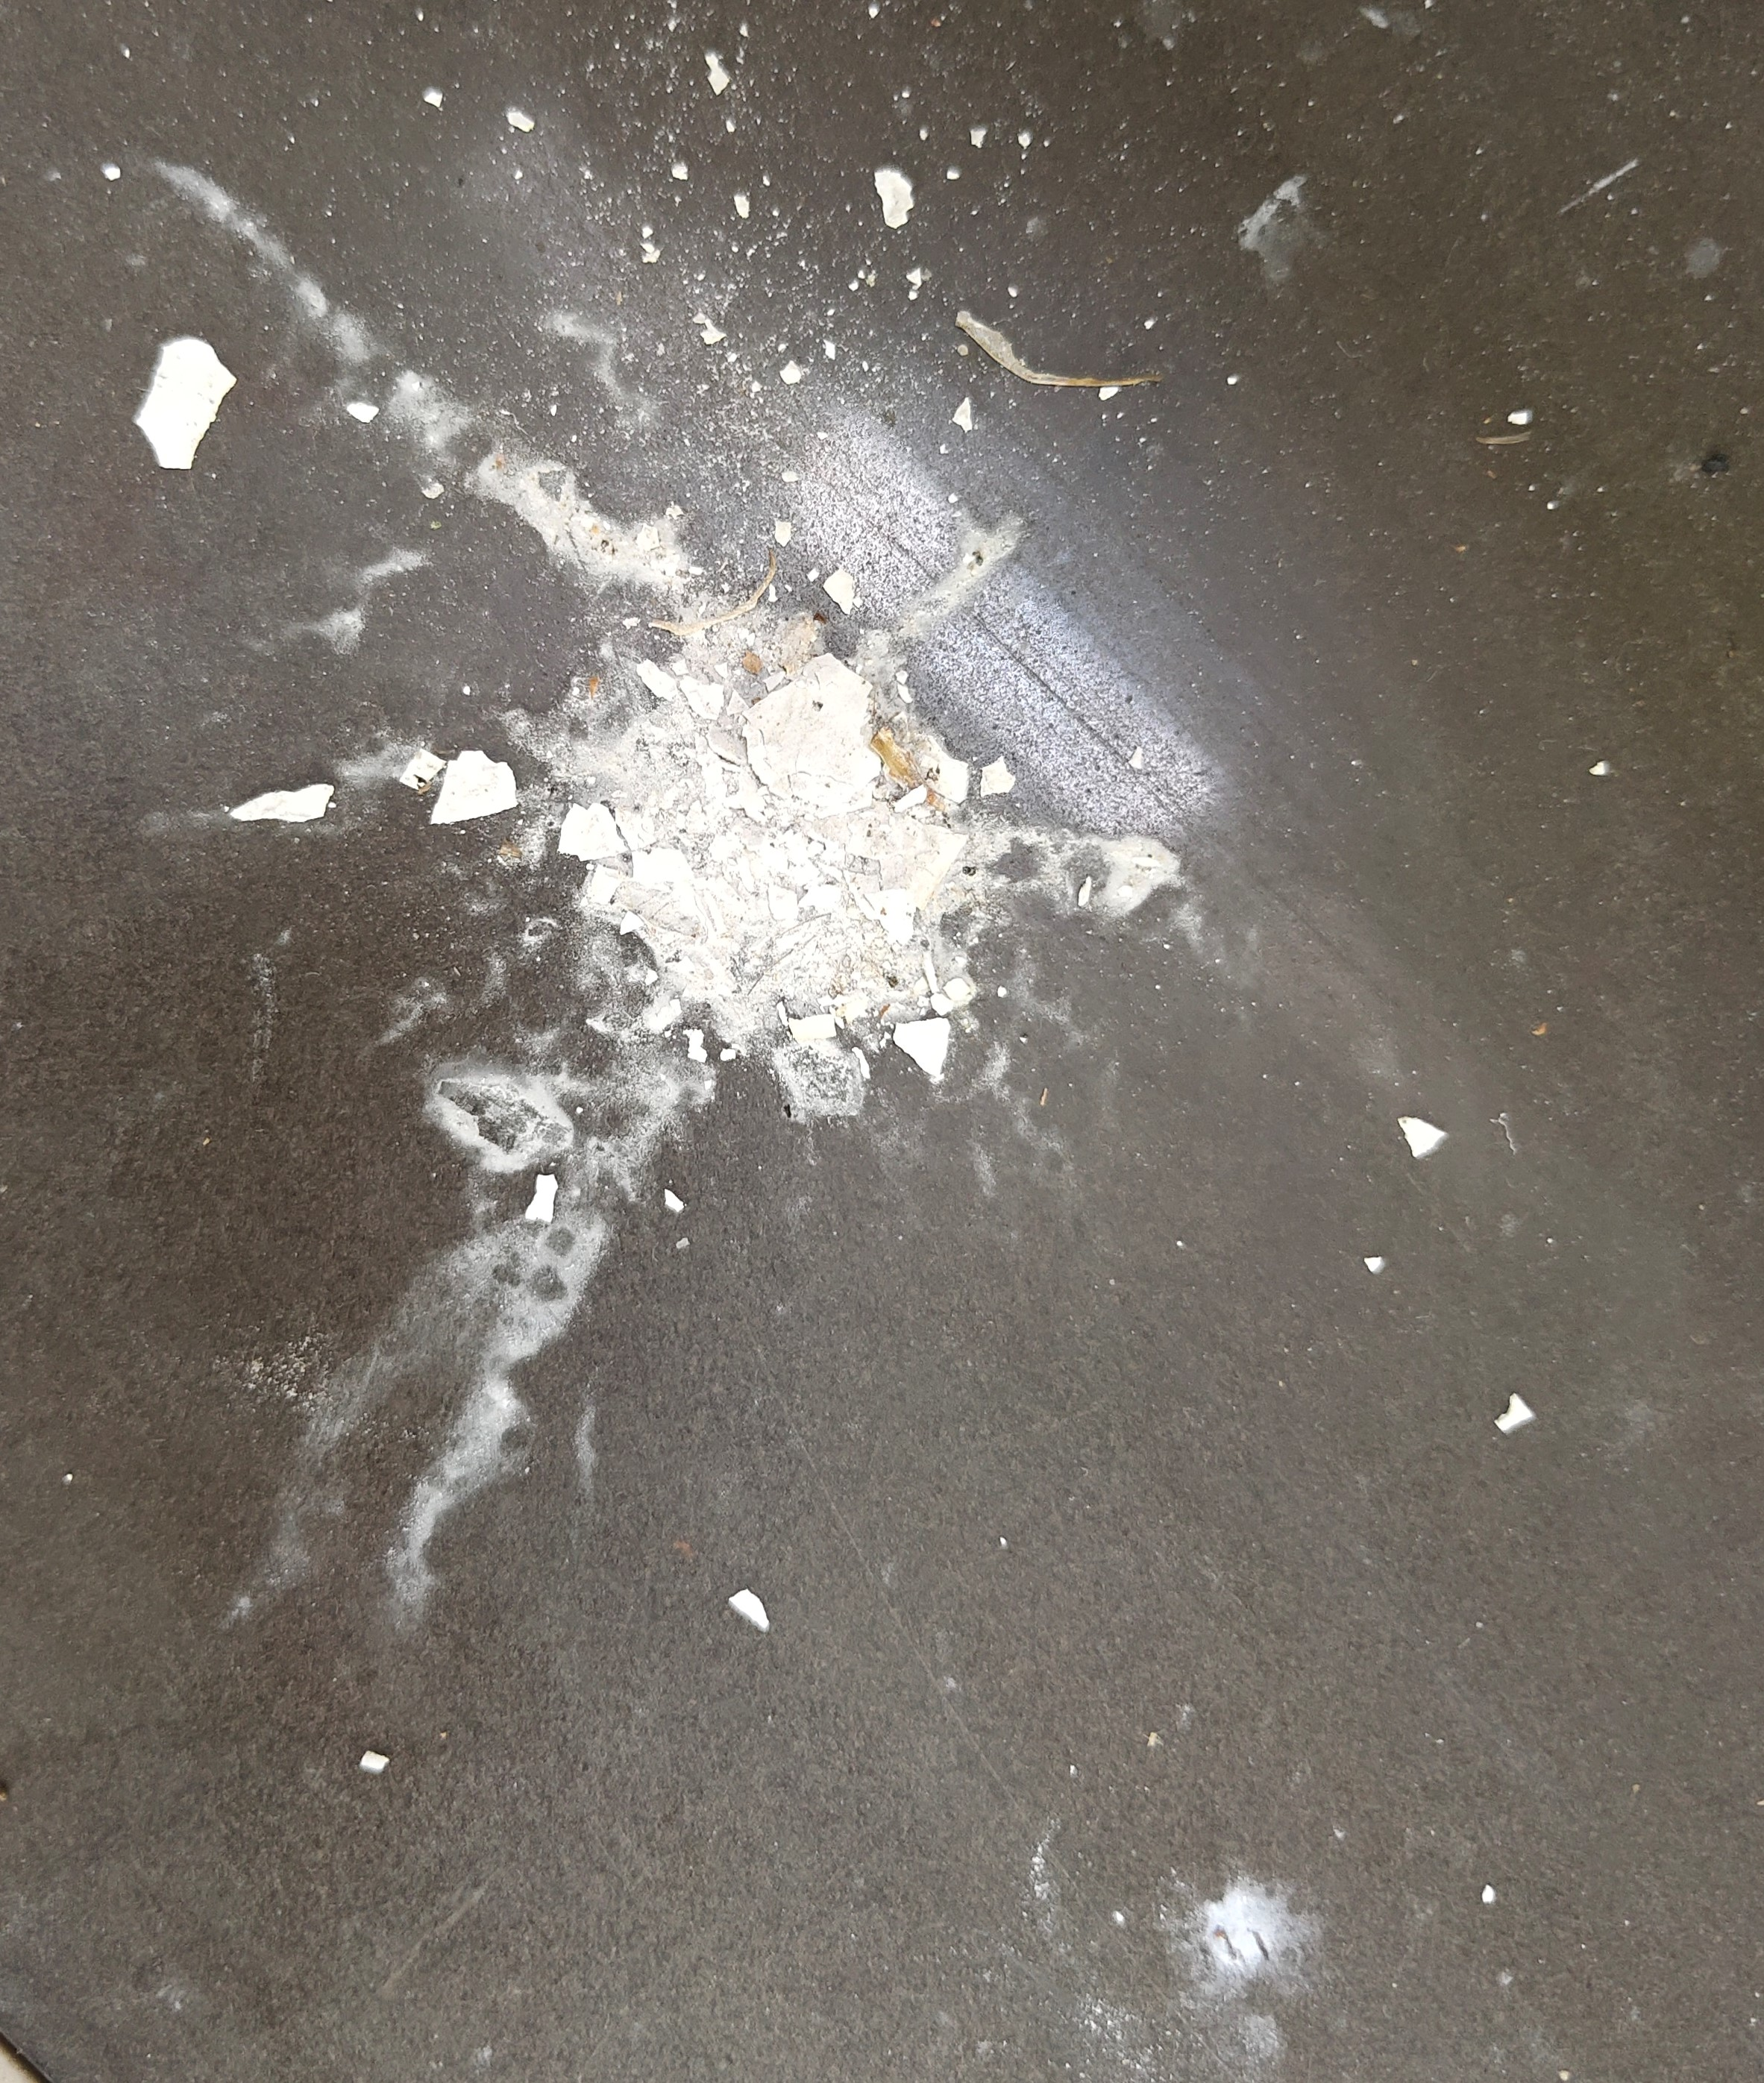ash pile: (136, 51, 1181, 1632)
